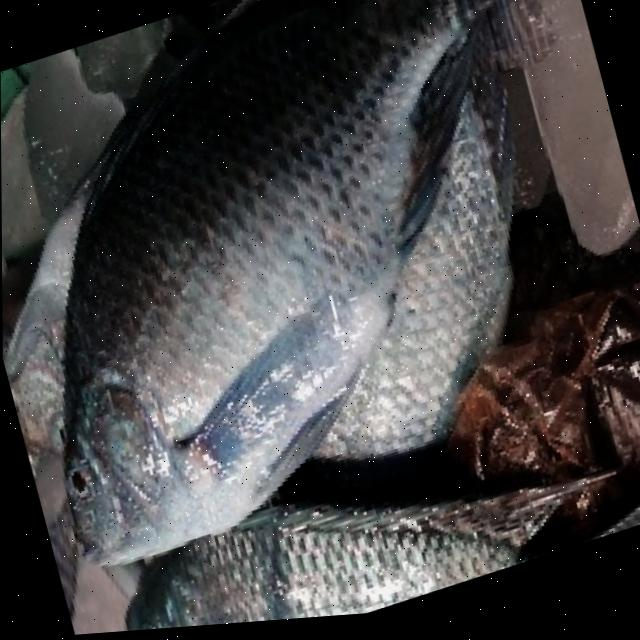Fresh: (0, 0, 459, 543), (93, 460, 498, 635)
